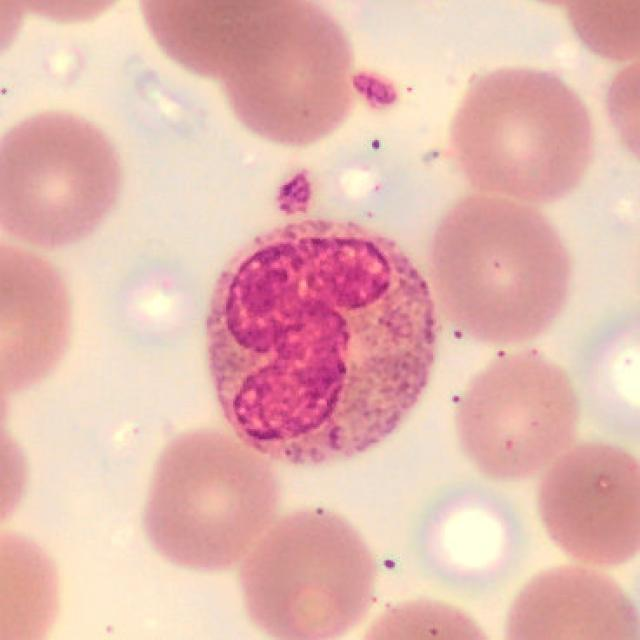Bastonete: (205, 216, 438, 467)
